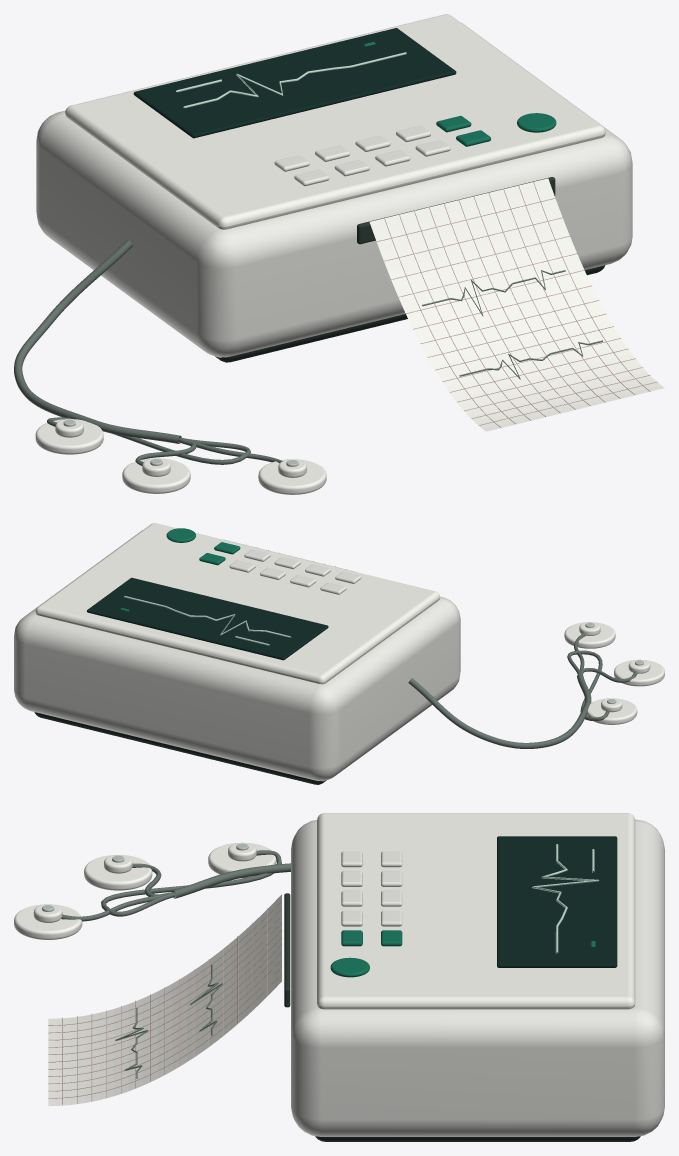
The model's file is service-ecg.glb.
3 renders of one model, top to bottom at view 1: azimuth 30°, elevation 25°; view 2: azimuth 150°, elevation 25°; view 3: azimuth 270°, elevation 25°, orthographic. The views are drawn at different scales.
Visible parts, largest first — view 1: ECG_Console_Polymer, ECG_Upper_Control_Plane, ECG_Schematic_Chart_Paper, ECG_Glass, ECG_Main_Lead, ECG_Electrode_1_Adhesive_Pad, ECG_Electrode_0_Adhesive_Pad, ECG_Electrode_2_Adhesive_Pad, ECG_Underside, ECG_Lead_2, ECG_Schematic_Pulse; view 2: ECG_Console_Polymer, ECG_Upper_Control_Plane, ECG_Glass, ECG_Main_Lead, ECG_Underside, ECG_Electrode_1_Adhesive_Pad, ECG_Electrode_0_Adhesive_Pad, ECG_Electrode_2_Adhesive_Pad, ECG_Lead_2, ECG_Schematic_Pulse; view 3: ECG_Console_Polymer, ECG_Upper_Control_Plane, ECG_Schematic_Chart_Paper, ECG_Glass, ECG_Underside, ECG_Electrode_0_Adhesive_Pad, ECG_Electrode_1_Adhesive_Pad, ECG_Lead_2, ECG_Electrode_2_Adhesive_Pad, ECG_Main_Lead, ECG_Paper_Slot, ECG_Schematic_Pulse (+2 smaller).
Part boxes in pixels (x1,y1,x2,y2): ECG_Console_Polymer: (36, 22, 632, 357); ECG_Upper_Control_Plane: (65, 14, 605, 229); ECG_Schematic_Chart_Paper: (369, 178, 664, 431); ECG_Glass: (133, 28, 456, 138); ECG_Main_Lead: (14, 240, 181, 443); ECG_Electrode_1_Adhesive_Pad: (258, 459, 326, 494); ECG_Electrode_0_Adhesive_Pad: (122, 458, 190, 493); ECG_Electrode_2_Adhesive_Pad: (35, 419, 103, 454); ECG_Underside: (215, 265, 605, 362); ECG_Lead_2: (47, 417, 250, 464); ECG_Schematic_Pulse: (183, 52, 406, 108); ECG_Console_Polymer: (14, 530, 460, 781); ECG_Upper_Control_Plane: (35, 523, 440, 684); ECG_Glass: (87, 577, 328, 660); ECG_Main_Lead: (408, 673, 591, 748); ECG_Underside: (34, 712, 326, 784); ECG_Electrode_1_Adhesive_Pad: (564, 622, 615, 648); ECG_Electrode_0_Adhesive_Pad: (614, 659, 664, 686); ECG_Electrode_2_Adhesive_Pad: (586, 698, 637, 724); ECG_Lead_2: (567, 650, 609, 720); ECG_Schematic_Pulse: (124, 596, 291, 637); ECG_Console_Polymer: (291, 819, 664, 1136); ECG_Upper_Control_Plane: (317, 813, 635, 1009); ECG_Schematic_Chart_Paper: (48, 894, 281, 1106); ECG_Glass: (497, 836, 617, 967); ECG_Underside: (315, 1136, 640, 1141); ECG_Electrode_0_Adhesive_Pad: (84, 855, 152, 890); ECG_Electrode_1_Adhesive_Pad: (14, 904, 82, 939); ECG_Lead_2: (101, 850, 281, 916); ECG_Electrode_2_Adhesive_Pad: (208, 842, 276, 878); ECG_Main_Lead: (172, 863, 290, 898); ECG_Paper_Slot: (284, 893, 290, 1007); ECG_Schematic_Pulse: (532, 844, 599, 953).
Size of the model in its own units: 4.04 by 0.9468 by 3.62.
